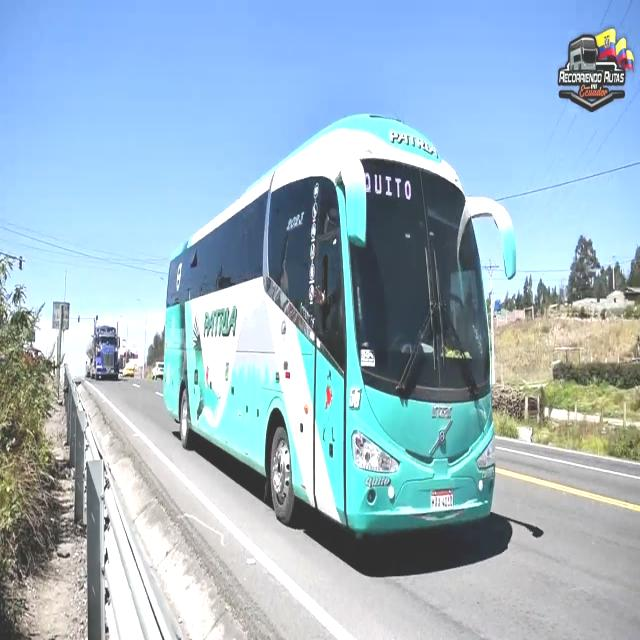BUS: (166, 118, 512, 540)
TRUCK: (82, 316, 123, 383)
